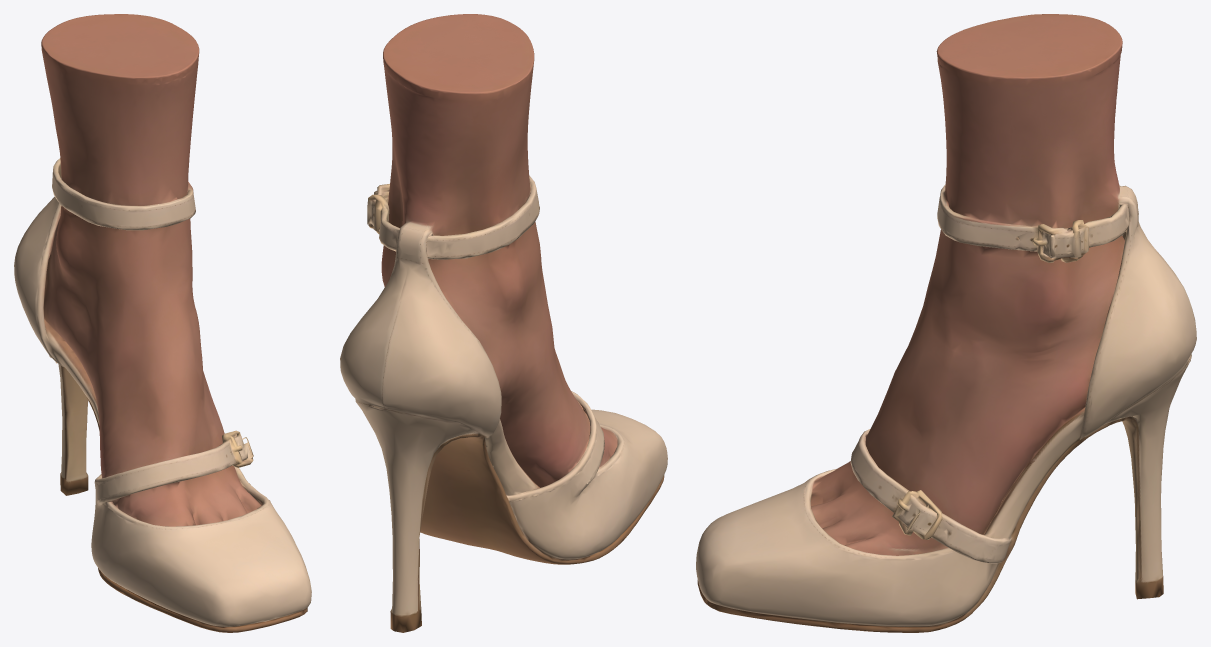
Rendered from beige_ankle_heels_original.glb.
The picture shows the model from 3 angles, left to right: view 1: azimuth 30°, elevation 25°; view 2: azimuth 150°, elevation 25°; view 3: azimuth 270°, elevation 25°; orthographic projection. The views are drawn at different scales.
Parts seen in each view (by area): view 1: tripo_node_897641d6-be28-4bfb-ac12-c44a98ae64b5; view 2: tripo_node_897641d6-be28-4bfb-ac12-c44a98ae64b5; view 3: tripo_node_897641d6-be28-4bfb-ac12-c44a98ae64b5.
Boxes of the visible parts, x1,y1,x2,y2 form: tripo_node_897641d6-be28-4bfb-ac12-c44a98ae64b5: [14, 14, 311, 632]; tripo_node_897641d6-be28-4bfb-ac12-c44a98ae64b5: [340, 14, 667, 632]; tripo_node_897641d6-be28-4bfb-ac12-c44a98ae64b5: [696, 14, 1196, 632].
Bounding box in the file's own units: 0.3464 × 0.9794 × 0.8087.
1 material, 1 textured.
